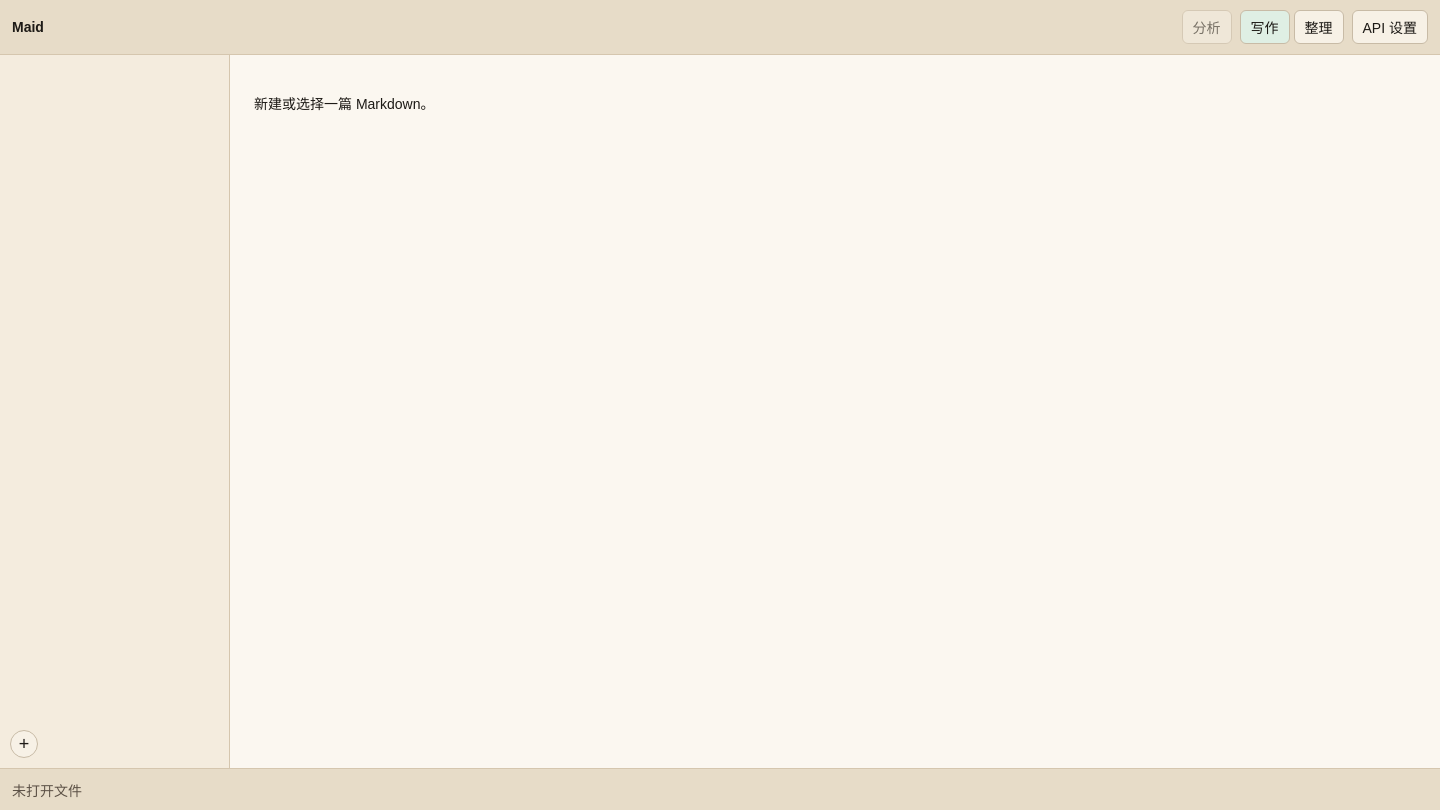
Test: 界面故事 › ED-06 没有新建项目，文件夹出现在存储文件树里
This screenshot has width=1440, height=810.
Click the button named "新建" at (24, 744), box [10, 730, 38, 758]
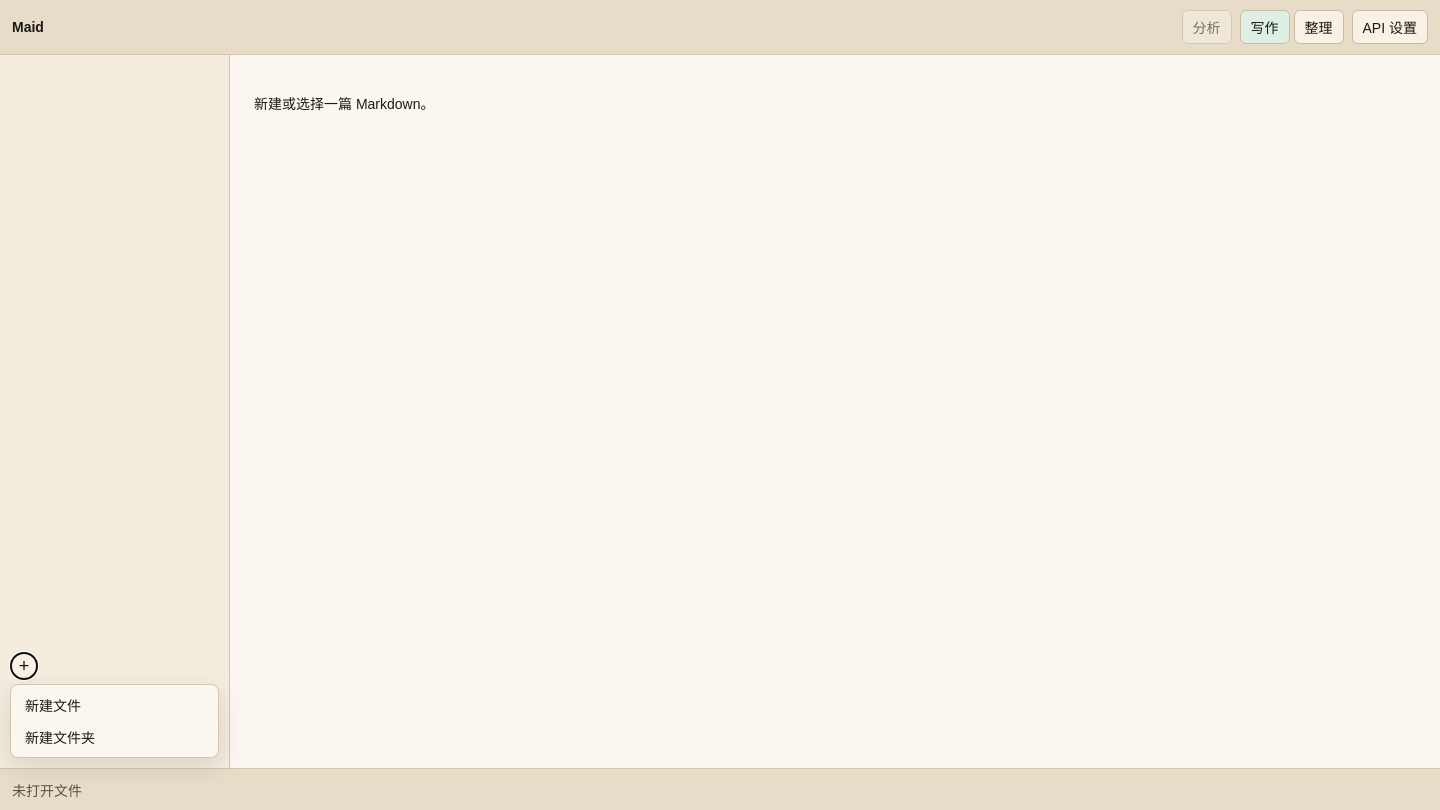
Click the menu item "新建文件夹" at (114, 737), box [15, 721, 214, 753]
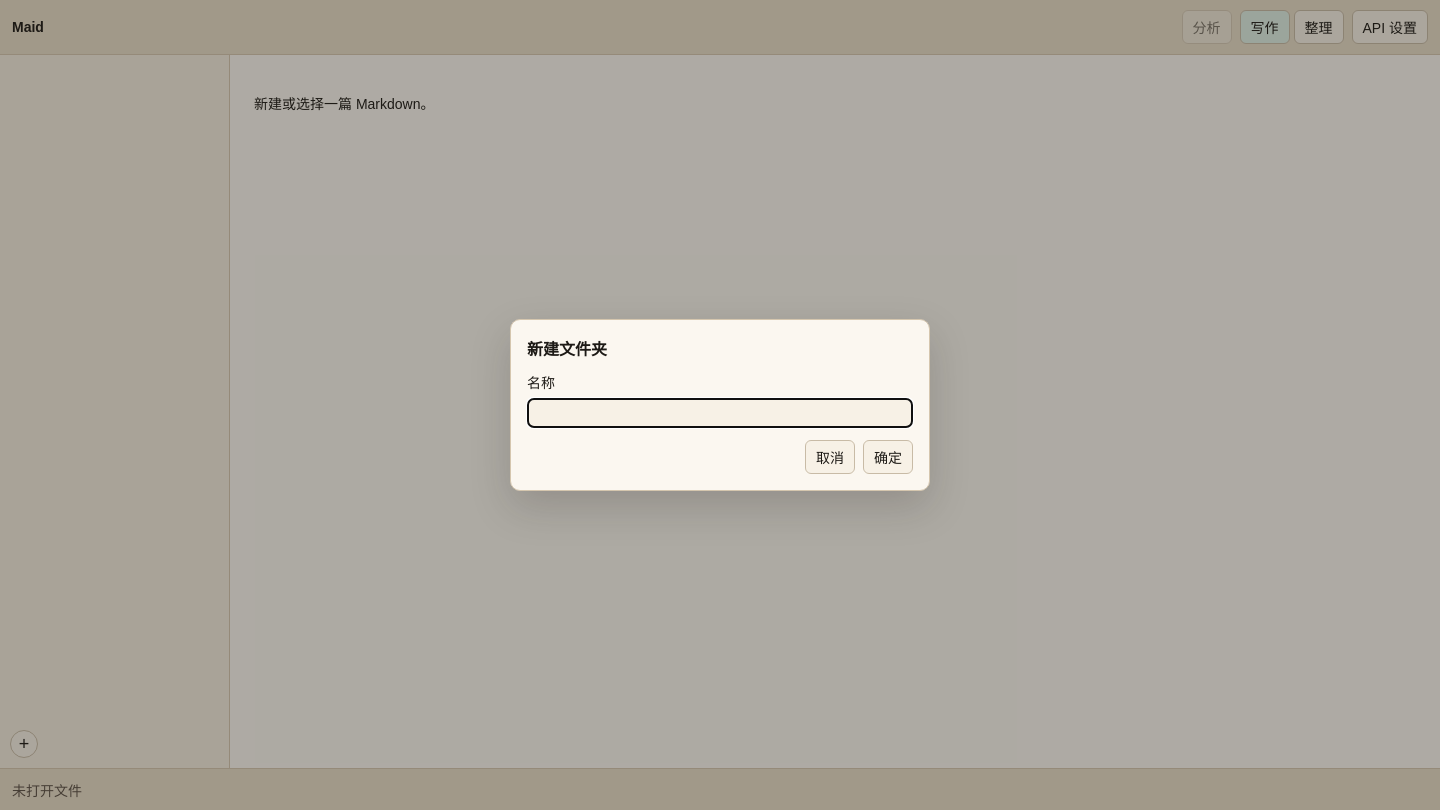
Type "立项" into the field labelled "名称" at (720, 413), box [527, 398, 913, 428]
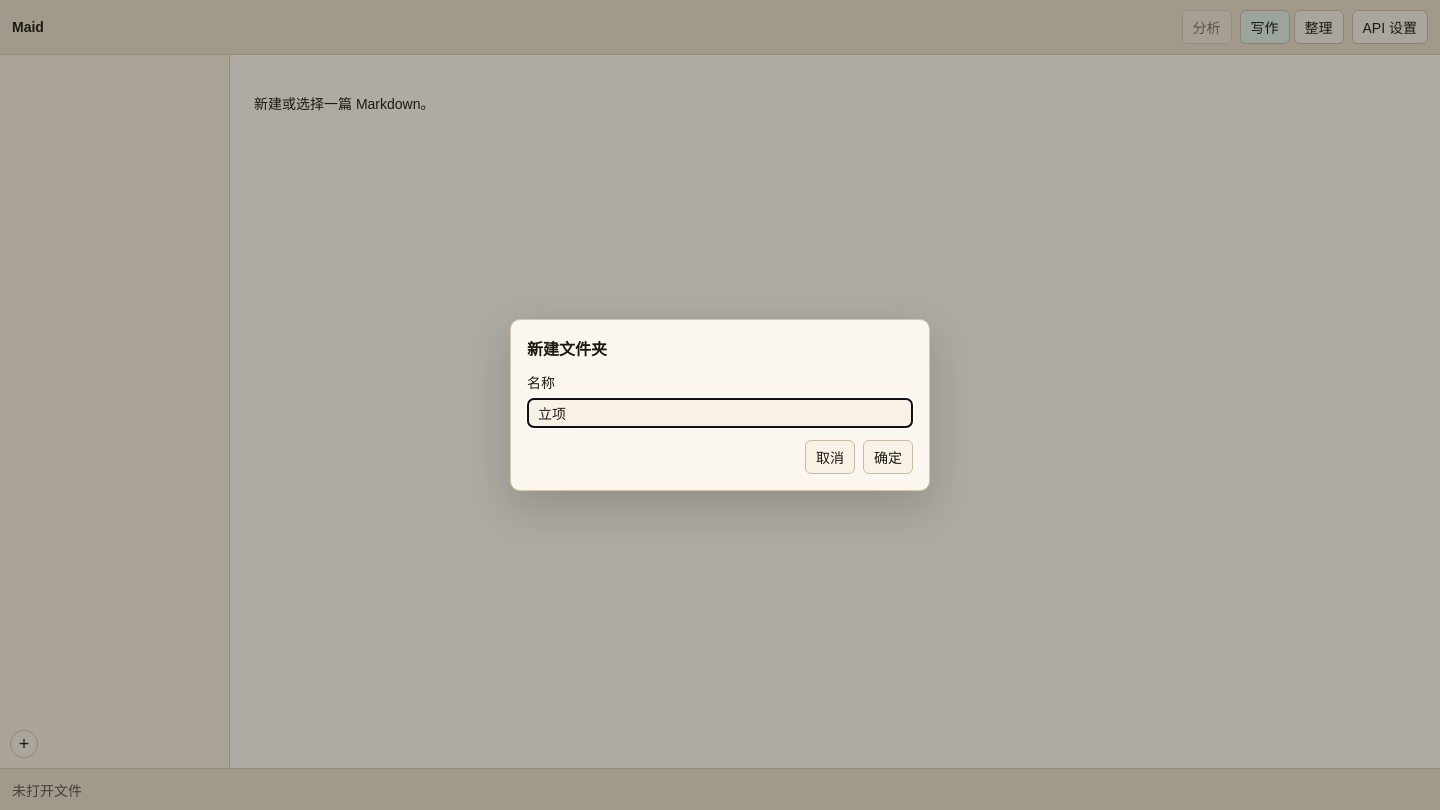
Click the button "确定" at (888, 457), box [863, 440, 913, 474]
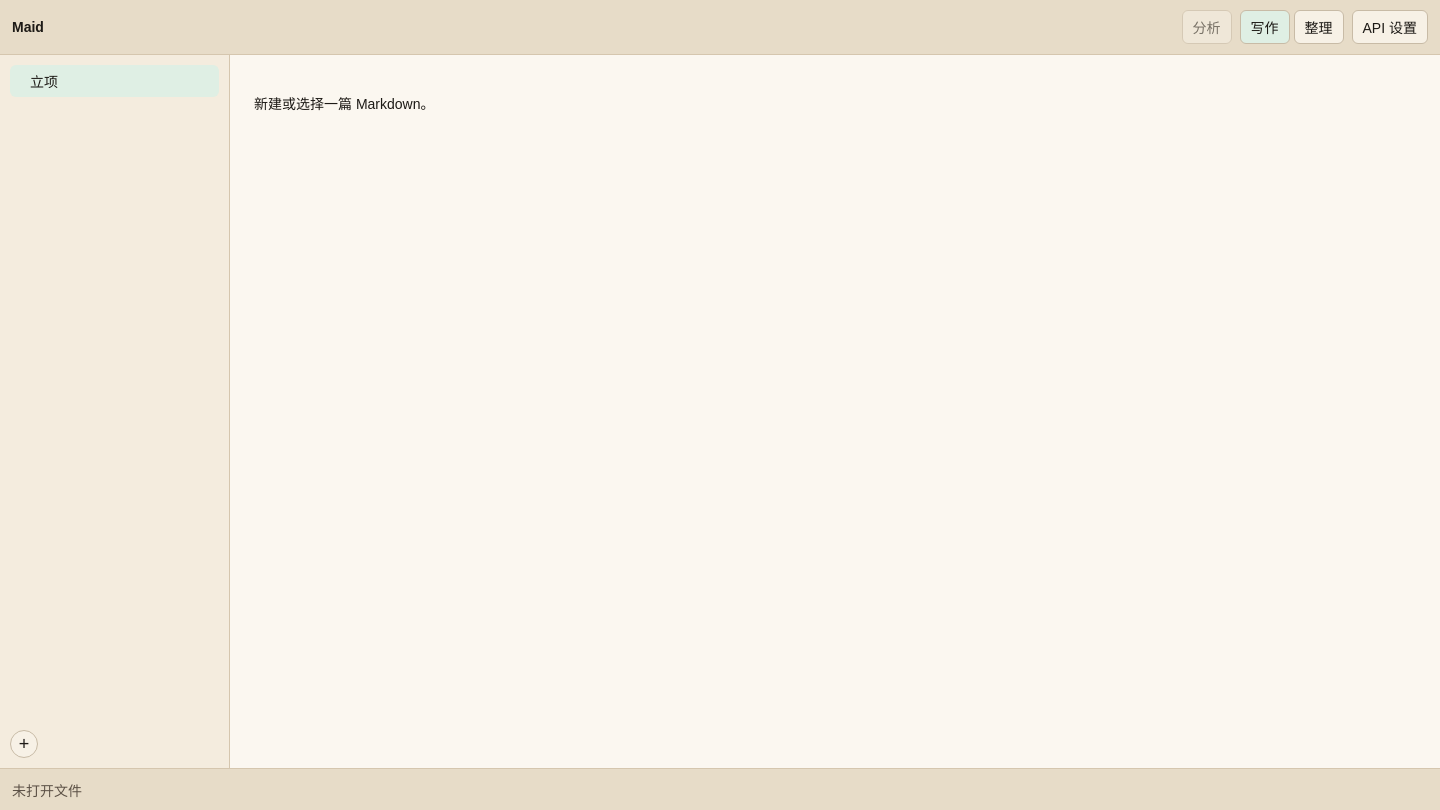
Check: the button "立项" is shown, box [10, 65, 219, 97]
Check: the dialog is gone
